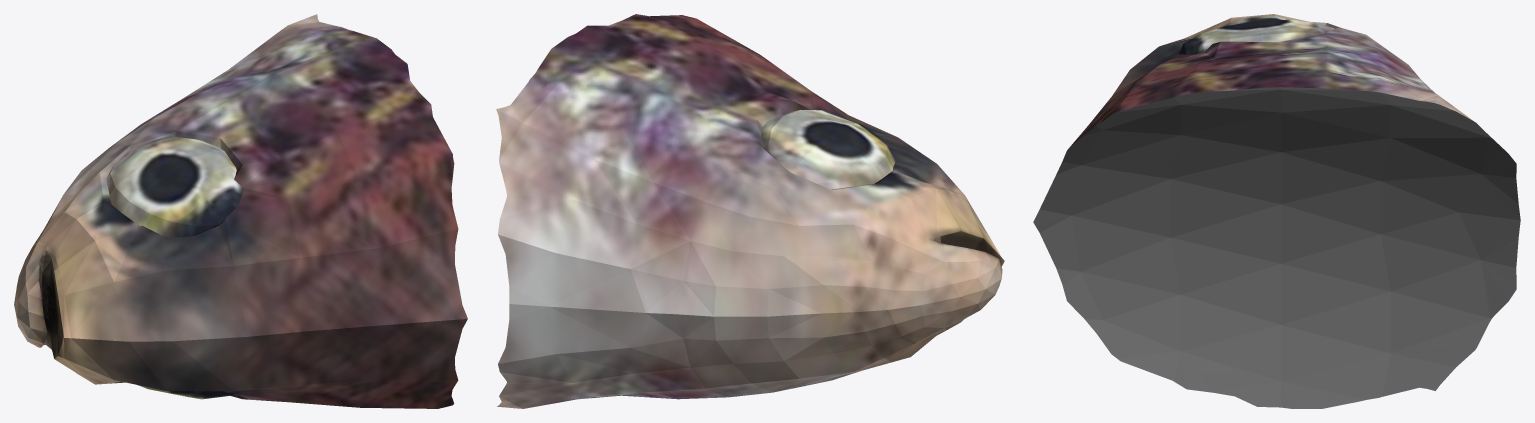
The picture shows the model from 3 angles, left to right: view 1: azimuth 30°, elevation 25°; view 2: azimuth 150°, elevation 25°; view 3: azimuth 270°, elevation 25°; orthographic projection. The views are drawn at different scales.
Visible parts, largest first — view 1: link_0_visual; view 2: link_0_visual; view 3: link_0_visual.
Boxes of the visible parts, x1=… form: link_0_visual: x1=14, y1=14, x2=467, y2=408; link_0_visual: x1=496, y1=14, x2=1004, y2=408; link_0_visual: x1=1033, y1=14, x2=1520, y2=408.
Size of the model in its own units: 0.00229 by 0.0018 by 0.00247.
Materials: 1 (1 with a texture image).
